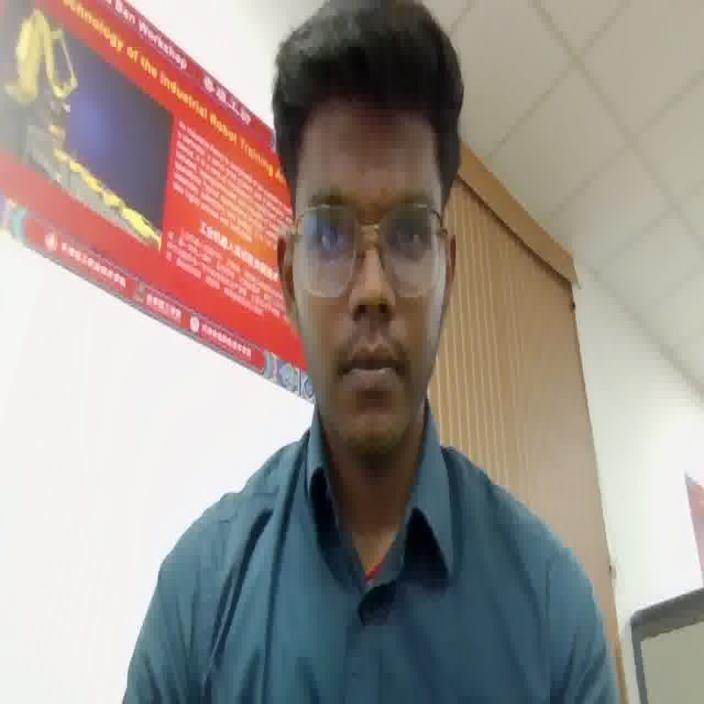know: (123, 0, 619, 703)
